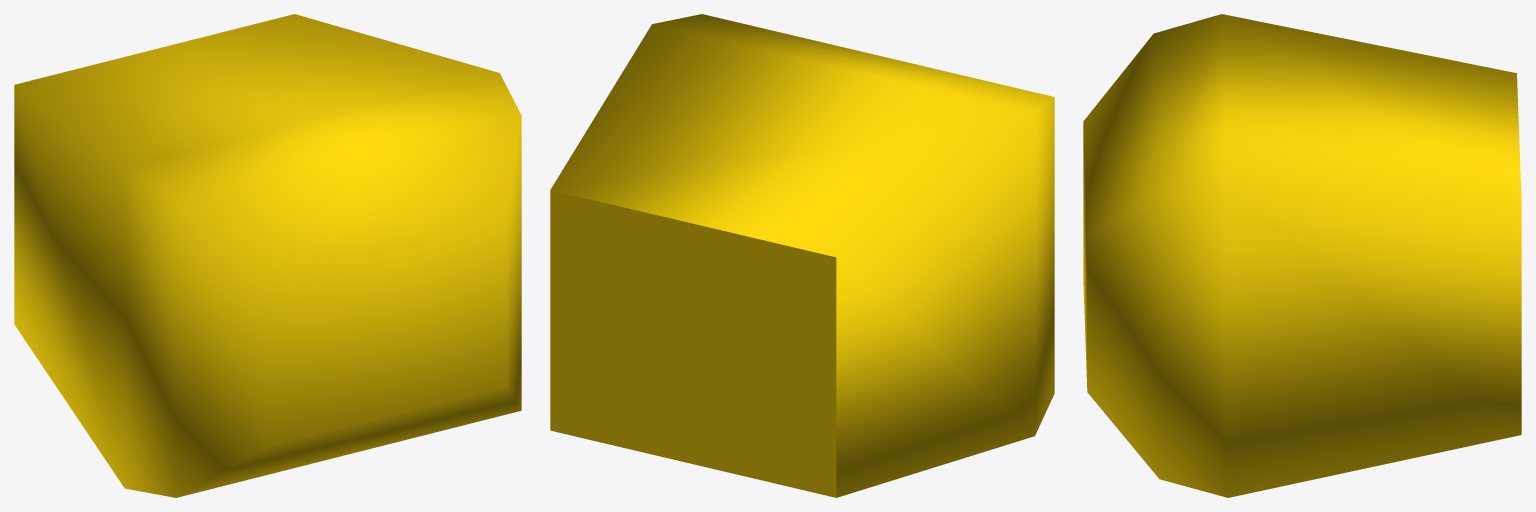
File: Corn Piece.FBX
3 views of the same model, side by side, from view 1: azimuth 30°, elevation 25°; view 2: azimuth 150°, elevation 25°; view 3: azimuth 270°, elevation 25° (orthographic). The views are drawn at different scales.
Visible parts, largest first — view 1: corn piece; view 2: corn piece; view 3: corn piece.
Boxes of the visible parts, x1=… form: corn piece: x1=14, y1=14, x2=521, y2=497; corn piece: x1=550, y1=14, x2=1054, y2=497; corn piece: x1=1083, y1=14, x2=1521, y2=497.
Bounding box in the file's own units: 10.89 × 8.83 × 11.42.
1 material, 1 textured.
